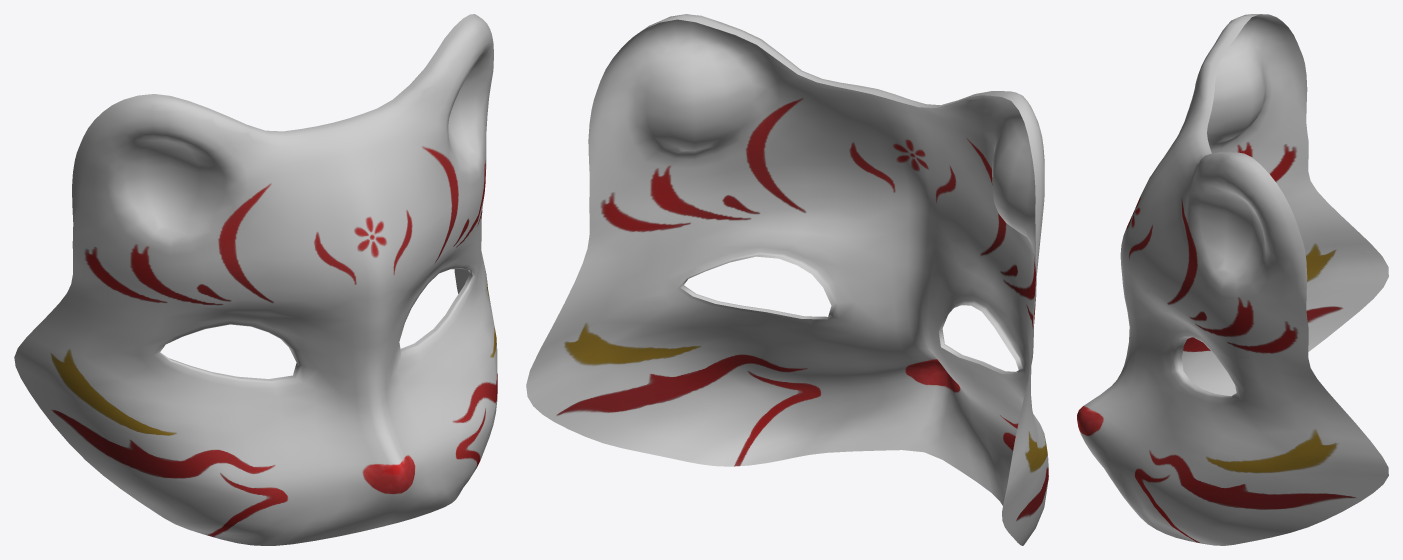
File: маска лисы 2.fbx
3 views of the same model, side by side, from view 1: azimuth 30°, elevation 25°; view 2: azimuth 150°, elevation 25°; view 3: azimuth 270°, elevation 25° (orthographic). The views are drawn at different scales.
Parts seen in each view (by area): view 1: Subdivision_Surface_1; view 2: Subdivision_Surface_1; view 3: Subdivision_Surface_1.
Part boxes in pixels (x1,y1,x2,y2): Subdivision_Surface_1: (14,14,497,545); Subdivision_Surface_1: (526,14,1048,545); Subdivision_Surface_1: (1077,14,1388,545).
Size of the model in its own units: 191 by 177 by 125.
Materials: 1 (1 with a texture image).
